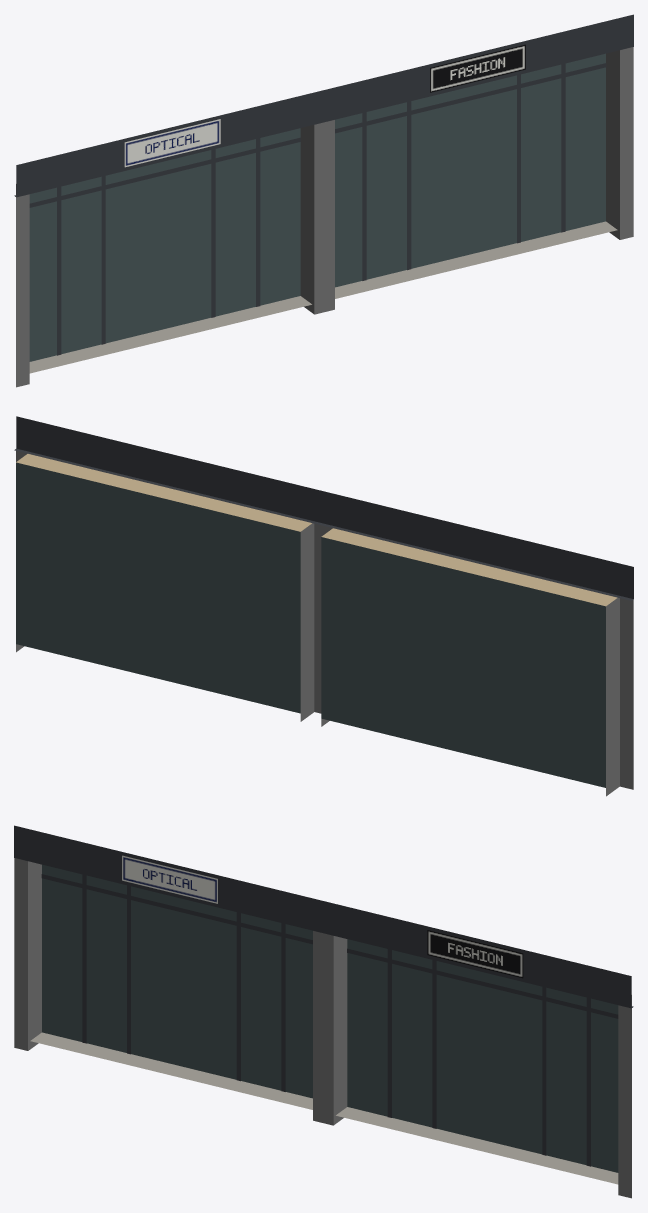
3 views of the same model, one above another, from view 1: azimuth 30°, elevation 25°; view 2: azimuth 150°, elevation 25°; view 3: azimuth 330°, elevation 25° (orthographic).
Parts seen in each view (by area): view 1: a2006/750/base-w2; view 2: a2006/750/base-w2; view 3: a2006/750/base-w2.
Boxes of the visible parts, x1,y1,x2,y2 form: a2006/750/base-w2: [14, 14, 633, 387]; a2006/750/base-w2: [14, 416, 633, 796]; a2006/750/base-w2: [14, 825, 633, 1198].
Size of the model in its own units: 9 by 3.1 by 0.361.
